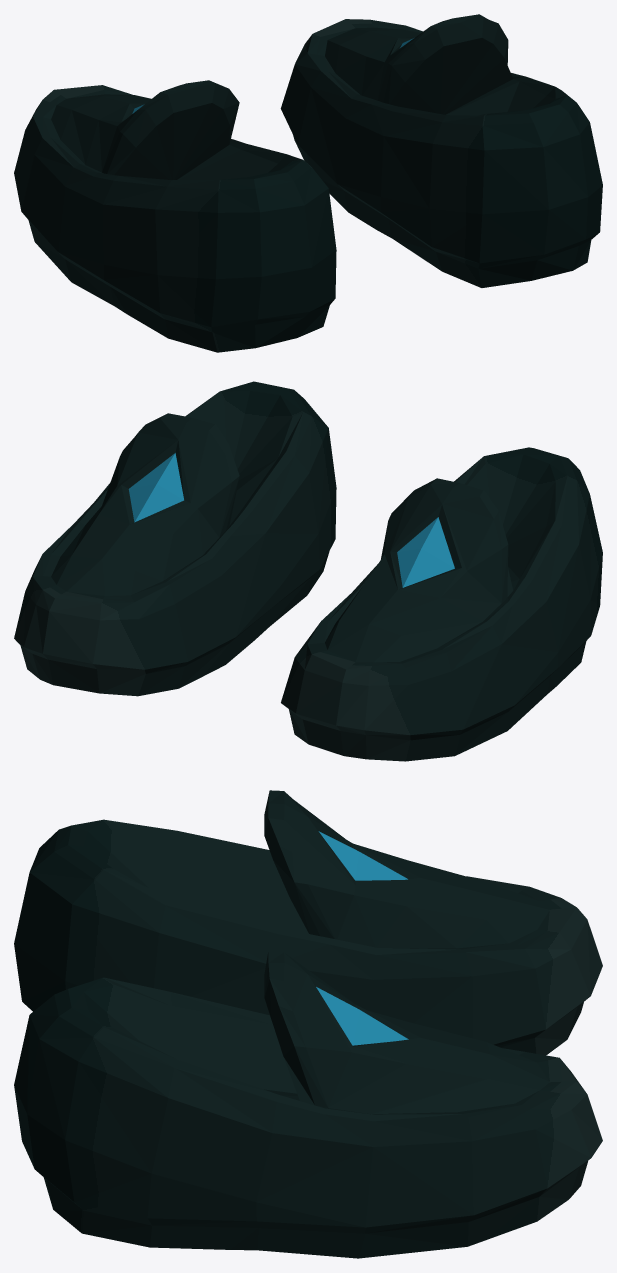
The model's file is CharSkyKid_Feet_RainbowDarkLoafers.glb.
3 views of the same model, one above another, from view 1: azimuth 30°, elevation 25°; view 2: azimuth 150°, elevation 25°; view 3: azimuth 270°, elevation 25° (orthographic). The views are drawn at different scales.
Parts seen in each view (by area): view 1: CharSkyKid_Feet_RainbowDarkLoafers; view 2: CharSkyKid_Feet_RainbowDarkLoafers; view 3: CharSkyKid_Feet_RainbowDarkLoafers.
Boxes of the visible parts, bbox=[...] form: CharSkyKid_Feet_RainbowDarkLoafers: bbox=[14, 14, 602, 352]; CharSkyKid_Feet_RainbowDarkLoafers: bbox=[14, 381, 602, 761]; CharSkyKid_Feet_RainbowDarkLoafers: bbox=[14, 790, 602, 1258].
Bounding box in the file's own units: 3.06 × 1.28 × 2.79.
Materials: 1 (1 with a texture image).
